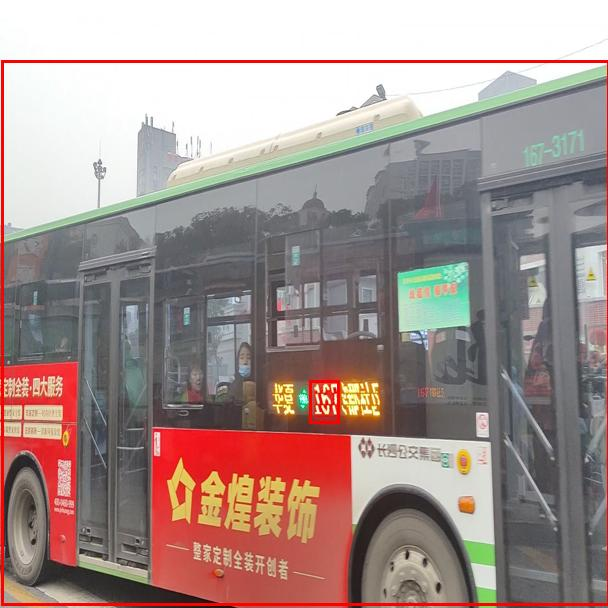bus: (1, 60, 608, 605)
screen: (309, 380, 339, 423)
